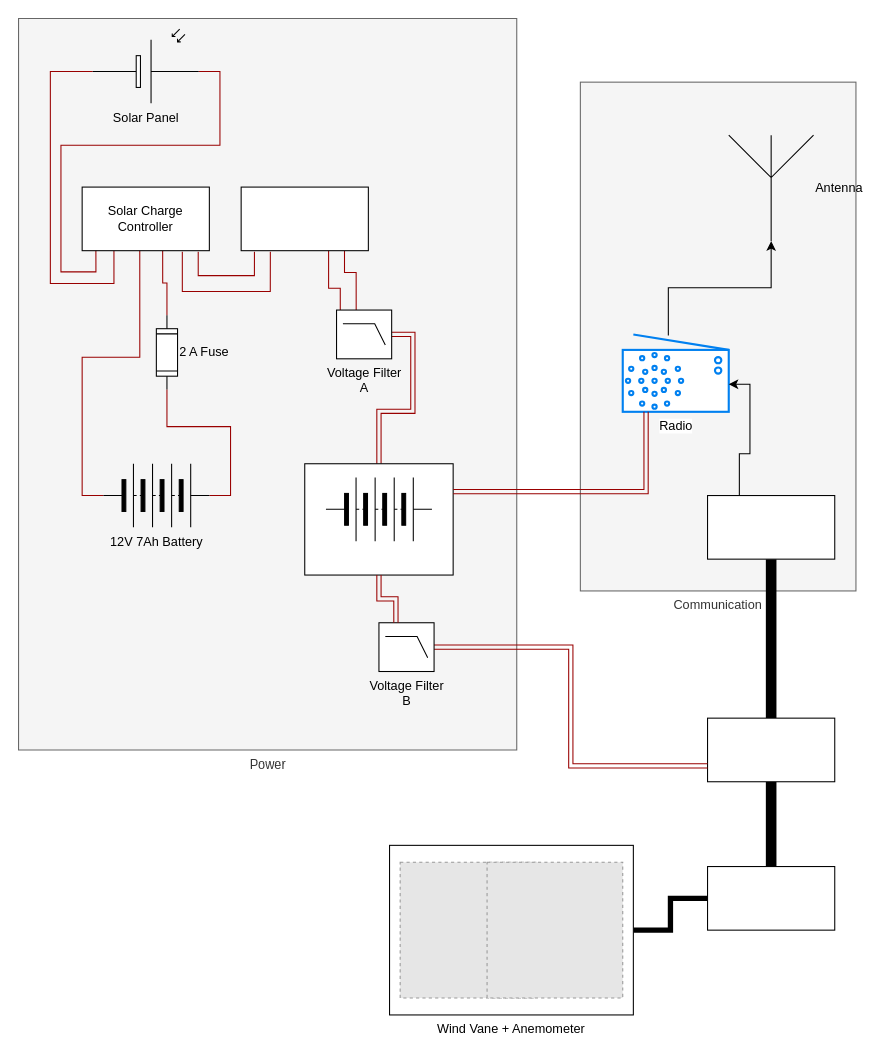
The diagram is 882 pixels wide and 1056 high, and some of its shapes have lost their labels. Grey dashed boxes stand in for pictures. Each missing label, with the centre of its shape:
Arduino: the point at 770,749
B 3603 Voltage Regulator 8.0 V: the point at 304,218
Custom Circuits: the point at 770,897
Radio Battery: the point at 378,508
Radio Shield: the point at 770,526
